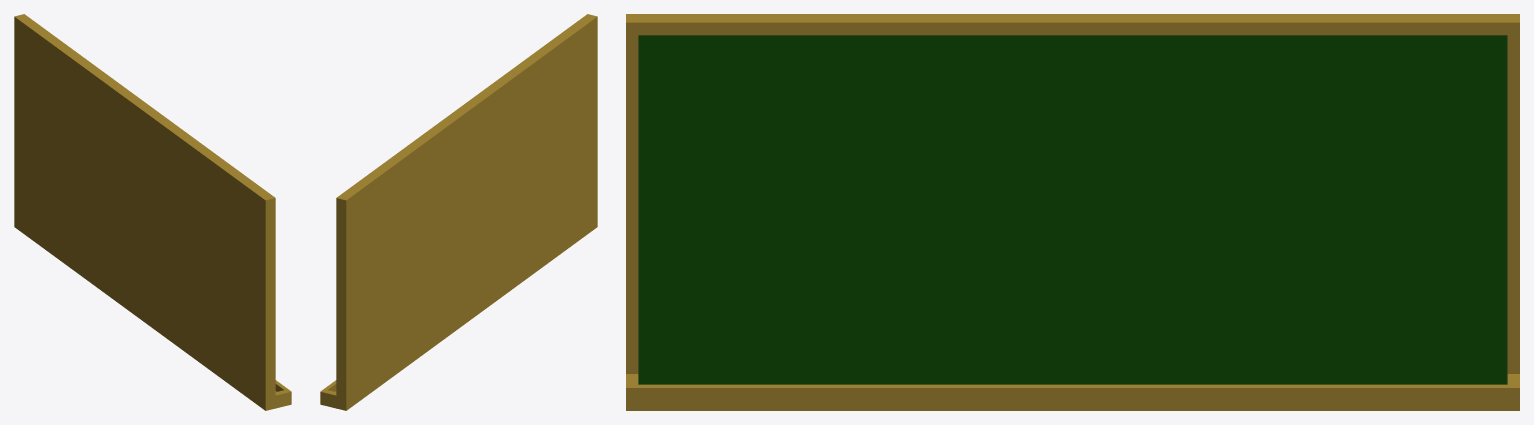
Rendered from Blackboard.fbx.
3 renders of one model, left to right at view 1: azimuth 30°, elevation 25°; view 2: azimuth 150°, elevation 25°; view 3: azimuth 270°, elevation 25°, orthographic. The views are drawn at different scales.
Visible parts, largest first — view 1: pCube1; view 2: pCube1; view 3: pCube1.
Part boxes in pixels (x1,y1,x2,y2): pCube1: (14, 14, 291, 410); pCube1: (320, 14, 597, 410); pCube1: (626, 14, 1519, 410).
Size of the model in its own units: 7.45 by 57.42 by 124.
